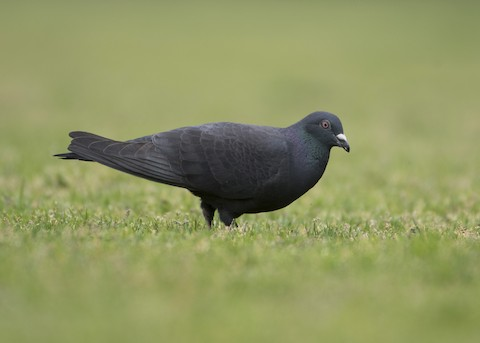pigeon: (52, 105, 353, 230)
